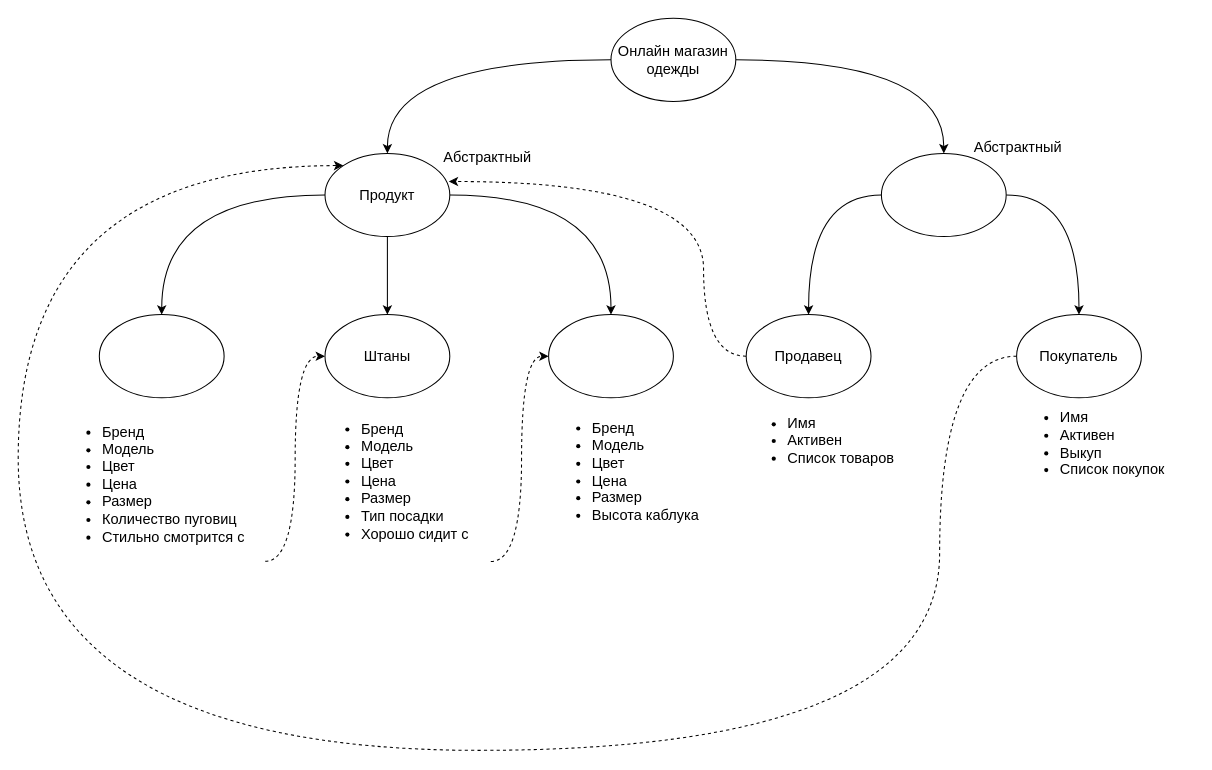
This 1212x770 diagram has some shape labels left out. The shapes that lost their labels are listed below. From the top down, each one's centre as x and y in pixels, then its label:
At point 943,194: "Пользователь".
At point 161,356: "Рубашка".
At point 610,356: "Туфли".
